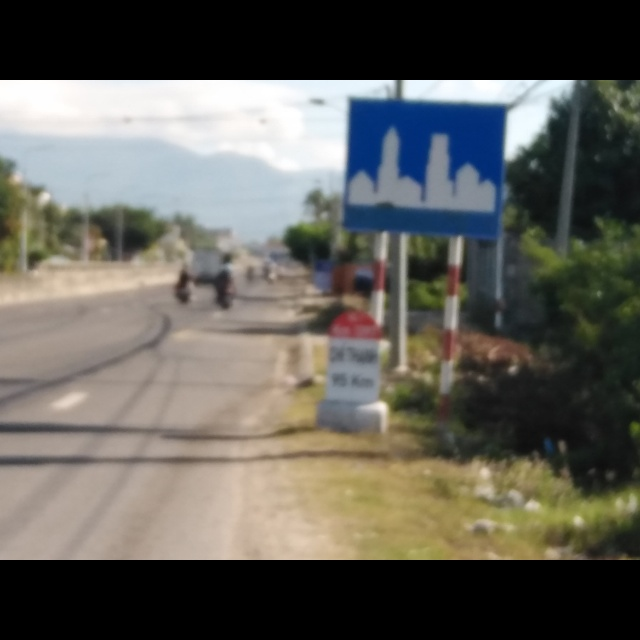Khu đông dân cư: (342, 94, 510, 244)
